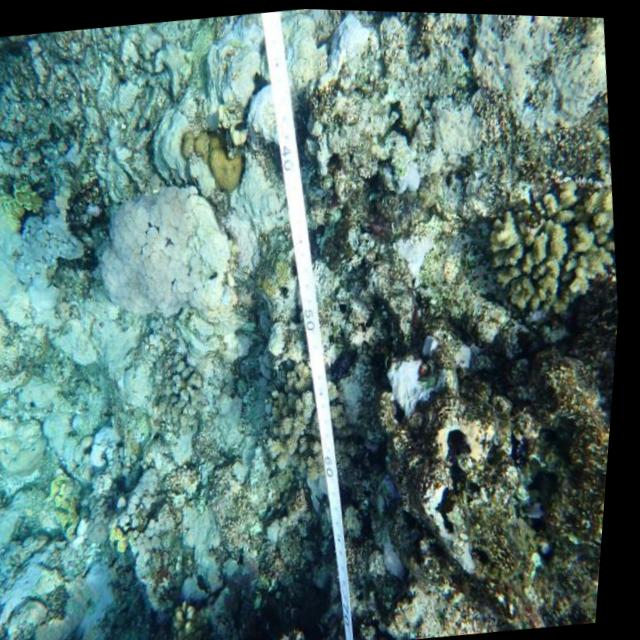Bleached Coral: (61, 162, 256, 355)
Healthy Coral: (473, 185, 627, 310)
